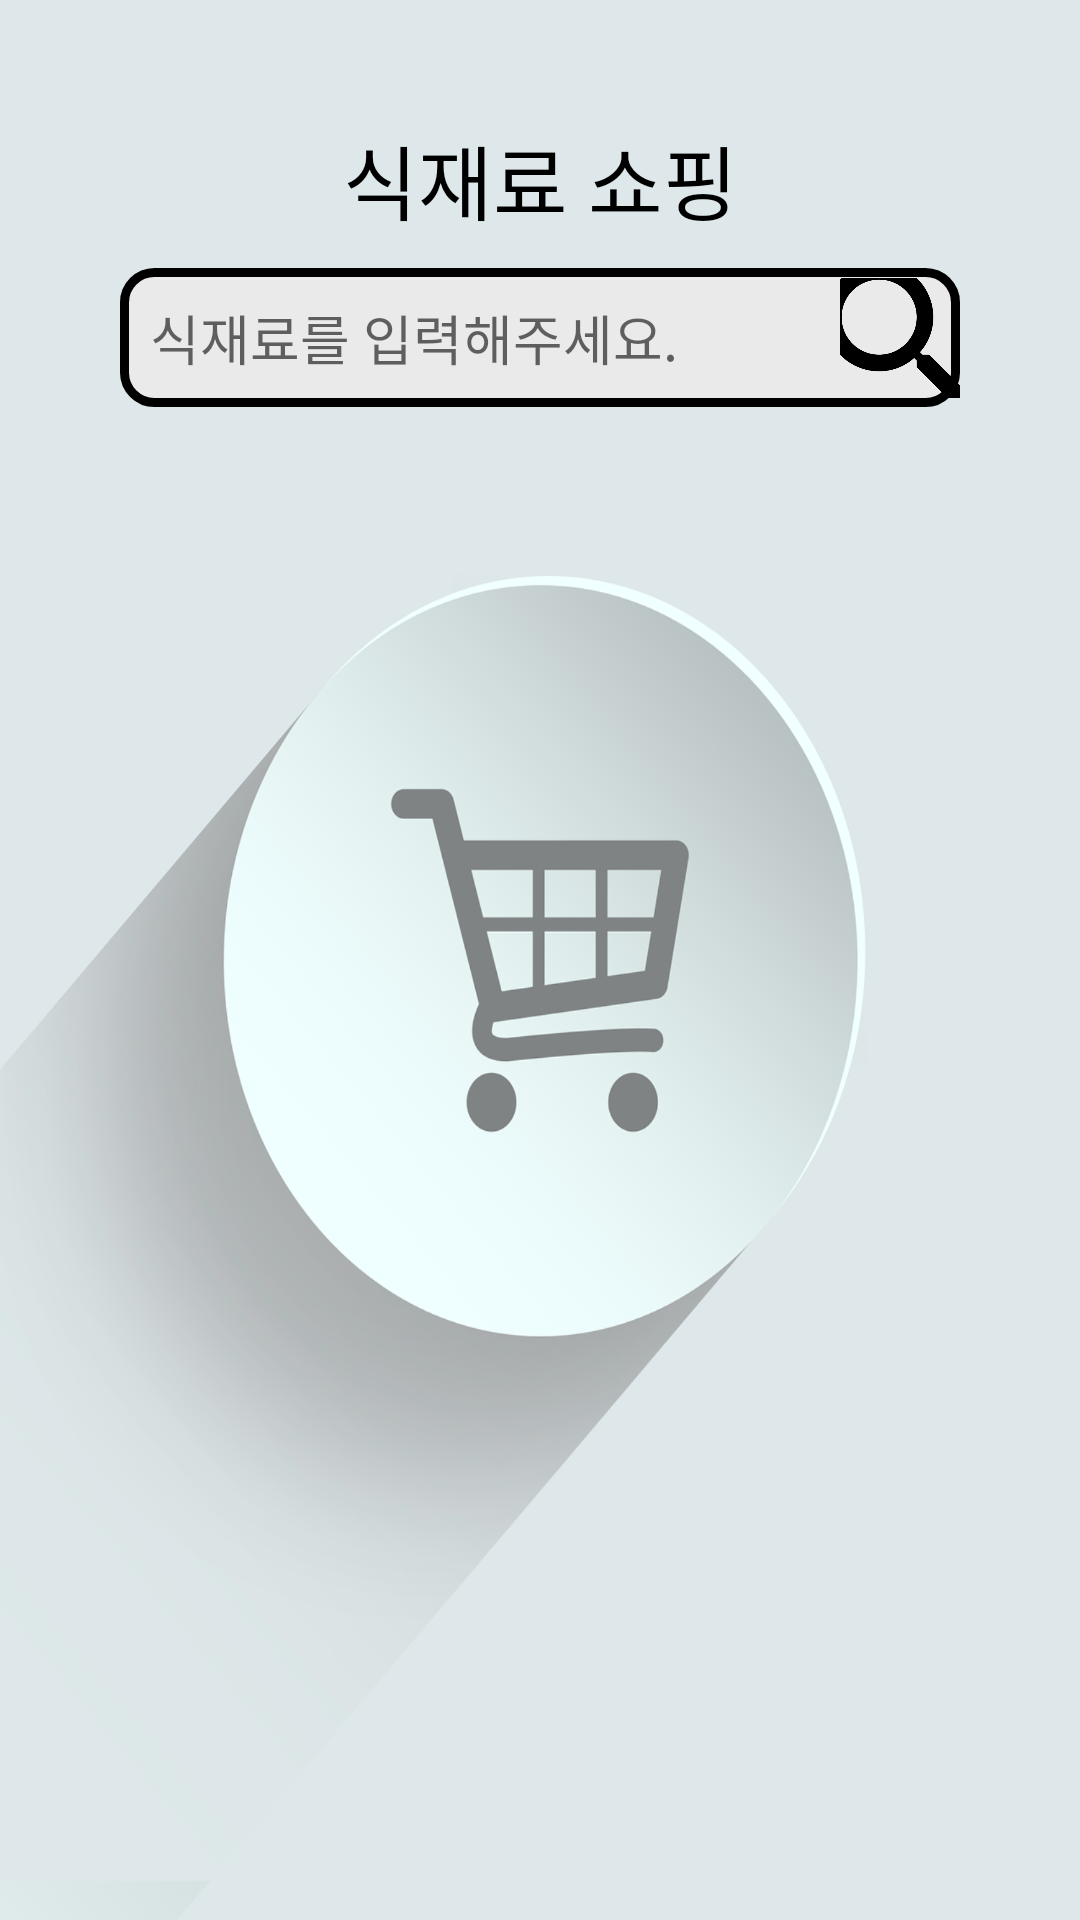

Where to tap for icons on this 1080px×1920px app screen, as point (x, y):
search: point (900, 338)
